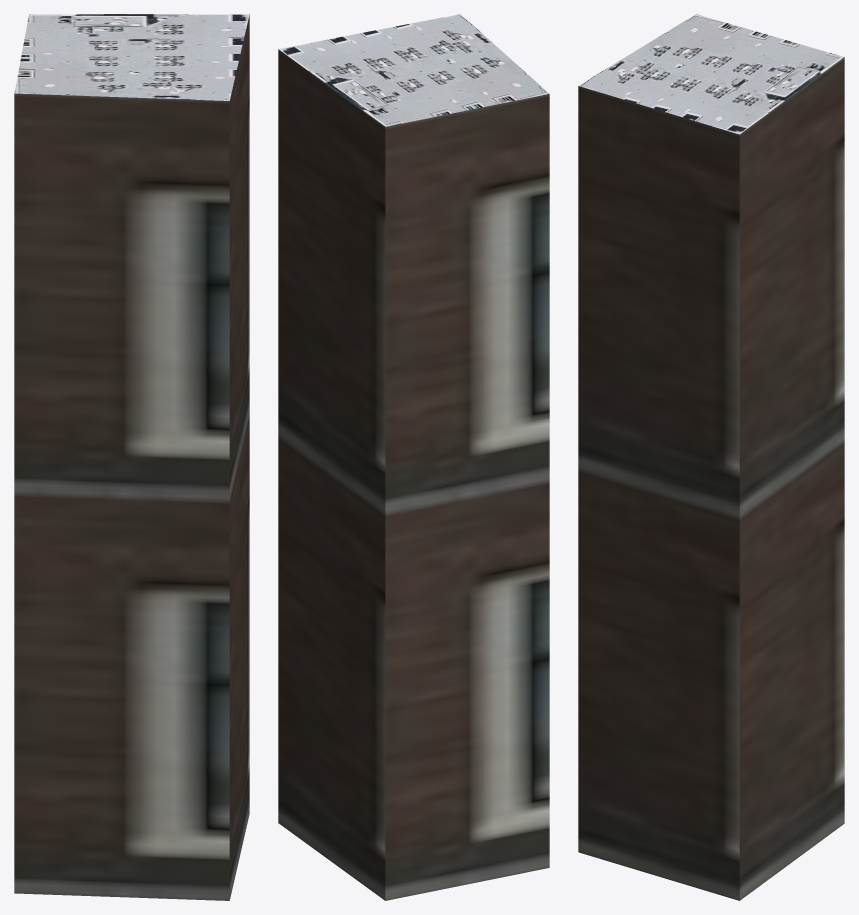
File: ResTex__4407.fbx
The picture shows the model from 3 angles, left to right: view 1: azimuth 30°, elevation 25°; view 2: azimuth 150°, elevation 25°; view 3: azimuth 270°, elevation 25°; orthographic projection. The views are drawn at different scales.
Visible parts, largest first — view 1: CityEngineMaterial_16_m, CityEngineMaterial_15_m; view 2: CityEngineMaterial_16_m, CityEngineMaterial_15_m; view 3: CityEngineMaterial_16_m, CityEngineMaterial_15_m.
Boxes of the visible parts, bbox=[...] form: CityEngineMaterial_16_m: bbox=[14, 14, 249, 900]; CityEngineMaterial_15_m: bbox=[14, 14, 249, 100]; CityEngineMaterial_16_m: bbox=[278, 49, 549, 900]; CityEngineMaterial_15_m: bbox=[278, 14, 549, 126]; CityEngineMaterial_16_m: bbox=[578, 57, 844, 900]; CityEngineMaterial_15_m: bbox=[578, 14, 844, 134].
Size of the model in its own units: 2.02 by 6 by 1.89.
Materials: 2 (2 with a texture image).
